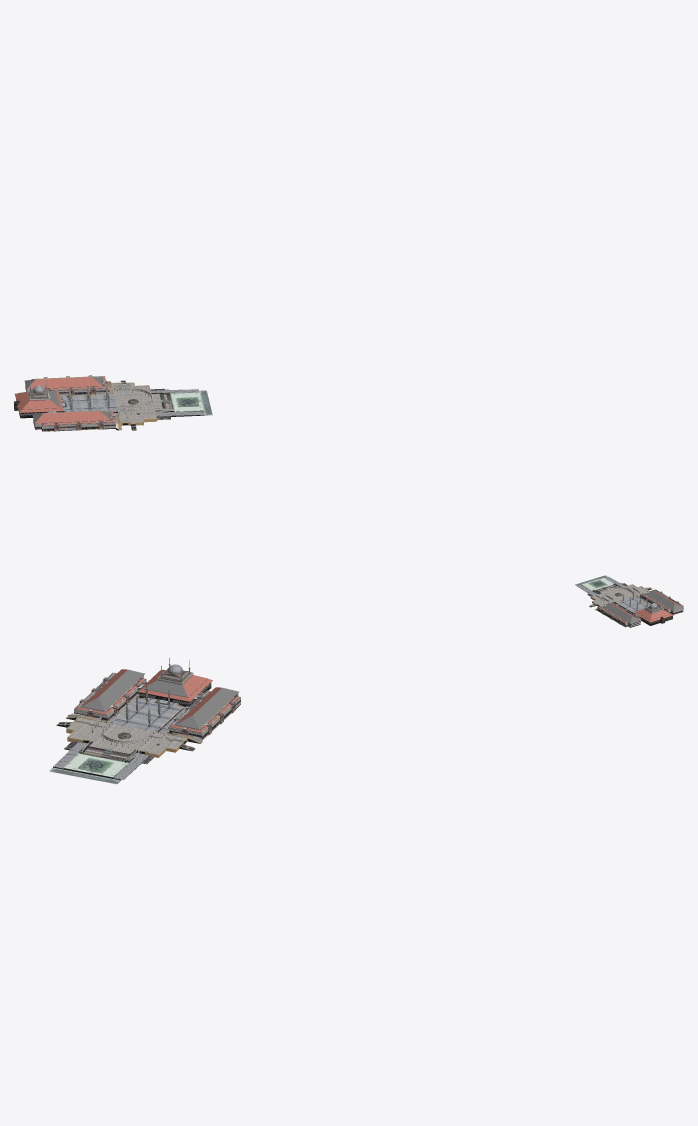
File: fix1.gltf
3 views of the same model, one above another, from view 1: azimuth 30°, elevation 25°; view 2: azimuth 150°, elevation 25°; view 3: azimuth 270°, elevation 25° (orthographic). The views are drawn at different scales.
Visible parts, largest first — view 1: root; view 2: root; view 3: root.
Boxes of the visible parts, bbox=[...] form: root: bbox=[14, 375, 212, 431]; root: bbox=[575, 575, 683, 627]; root: bbox=[49, 664, 240, 784].
Bounding box in the file's own units: 37.97 × 2.51 × 21.3.
Materials: 41 (40 with a texture image).
